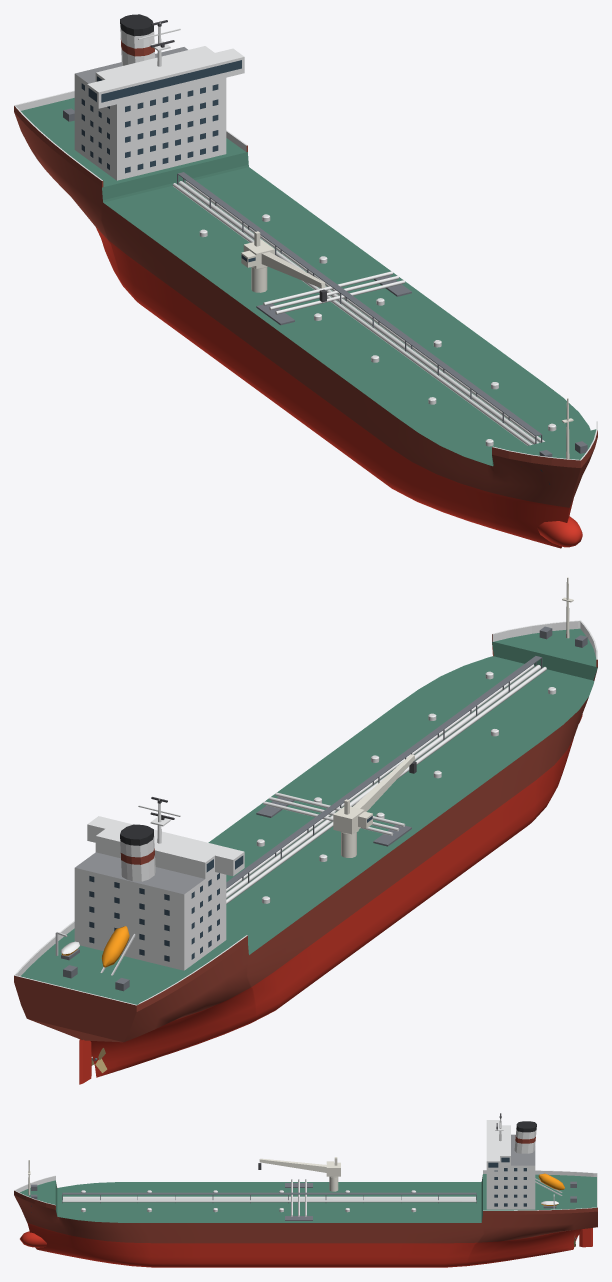
The model's file is ambient_tanker.fbx.
The picture shows the model from 3 angles, top to bottom: view 1: azimuth 30°, elevation 25°; view 2: azimuth 150°, elevation 25°; view 3: azimuth 270°, elevation 25°; orthographic projection. The views are drawn at different scales.
Visible parts, largest first — view 1: ambient_tanker; view 2: ambient_tanker; view 3: ambient_tanker.
Boxes of the visible parts, x1,y1,x2,y2 form: ambient_tanker: [14, 14, 597, 548]; ambient_tanker: [14, 577, 597, 1084]; ambient_tanker: [14, 1113, 597, 1267].
Bounding box in the file's own units: 28.06 × 42.6 × 168.
